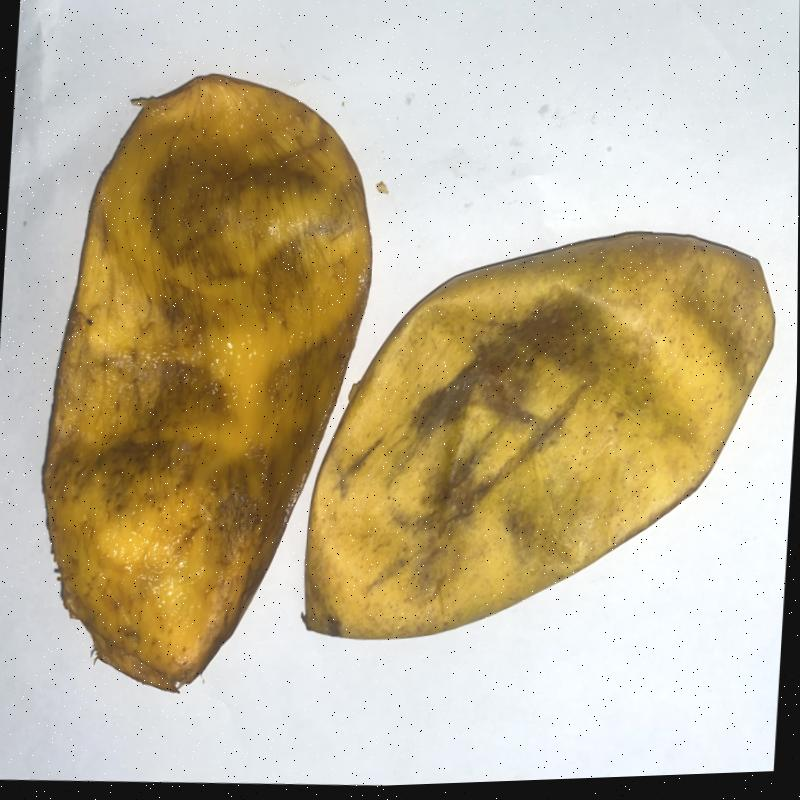fruit peels: (42, 72, 376, 694), (303, 230, 779, 640)
